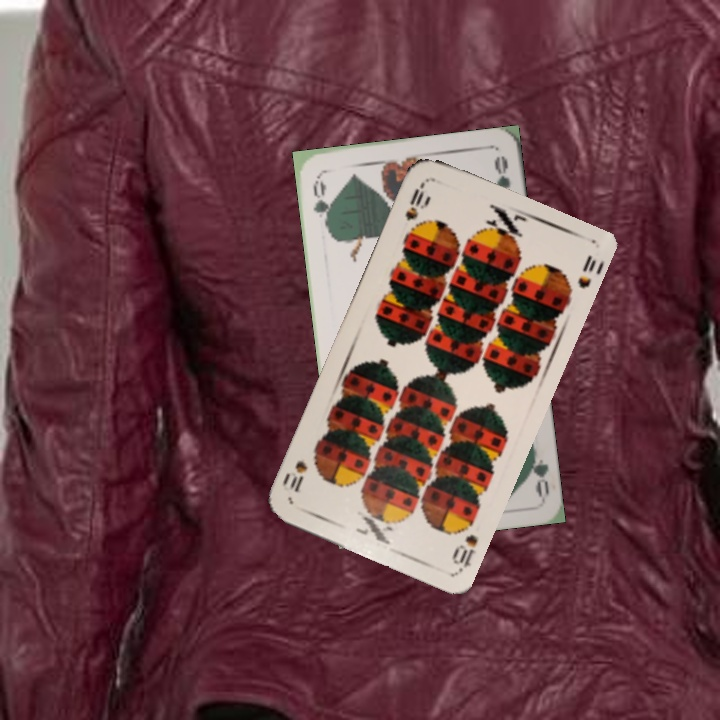GO: (524, 440, 552, 499), (308, 173, 333, 232)
S10: (400, 177, 431, 224), (448, 530, 481, 573)
